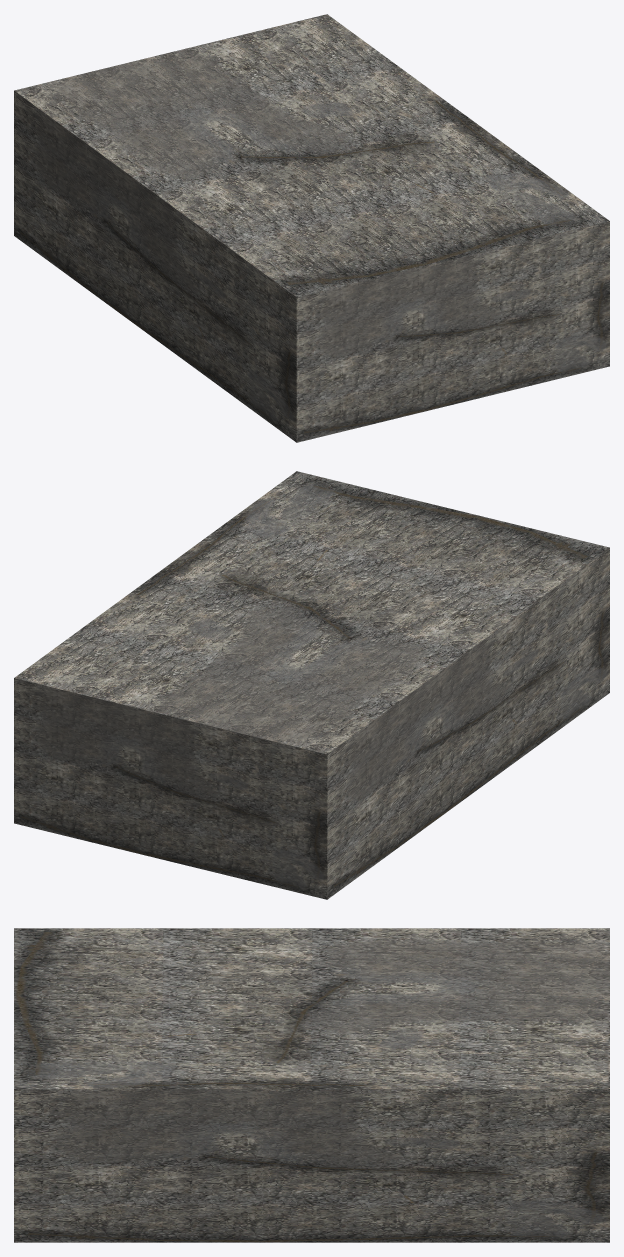
File: volcano.DAE
3 renders of one model, top to bottom at view 1: azimuth 30°, elevation 25°; view 2: azimuth 150°, elevation 25°; view 3: azimuth 270°, elevation 25°, orthographic. The views are drawn at different scales.
Parts seen in each view (by area): view 1: bounds; view 2: bounds; view 3: bounds.
Boxes of the visible parts, left/top/right/bottom form: bounds: left=14, top=14, right=609, bottom=442; bounds: left=14, top=471, right=609, bottom=899; bounds: left=14, top=928, right=609, bottom=1242.
Size of the model in its own units: 46.94 by 73.39 by 20.81.
